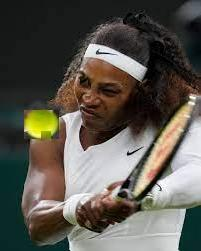elbow: (38, 220, 46, 229)
eye: (107, 88, 117, 96), (82, 77, 90, 86)
hand: (92, 207, 97, 213), (124, 206, 130, 211)
nose: (86, 97, 92, 103)
player: (24, 12, 200, 251)
shoulder: (43, 132, 53, 142)
tennis ball: (26, 110, 60, 139)
tennis racket: (113, 96, 199, 200)
